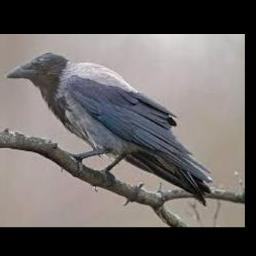Crow: (6, 51, 212, 205)
